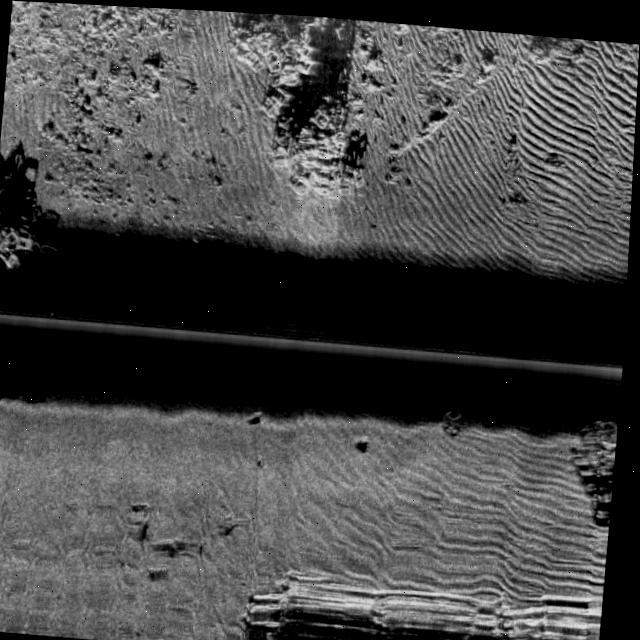artificial reef: (181, 19, 385, 222), (0, 201, 95, 280), (0, 330, 79, 406), (391, 386, 490, 429), (570, 399, 623, 472)
